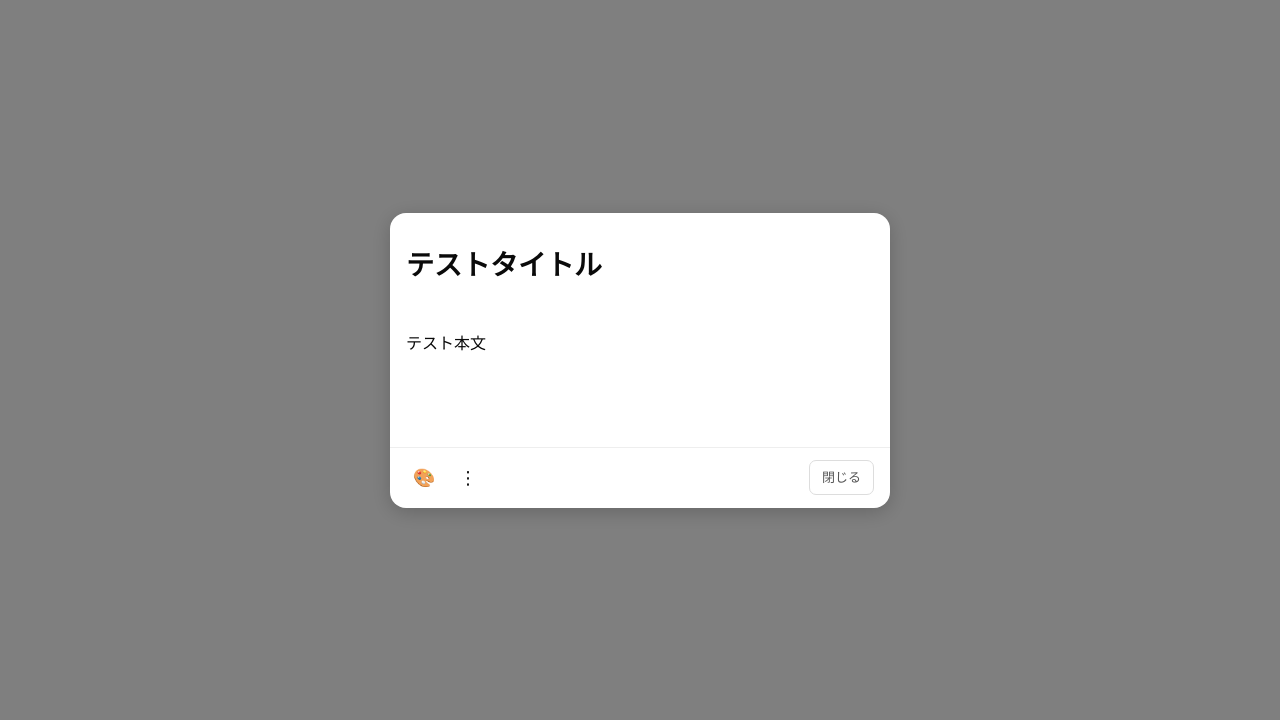
NoteDetailModal › ⋮ ボタンを押すと、メニューパネルが表示される
Step 1. Click the button "⋮" → (468, 478), box 450,460 -> 486,496
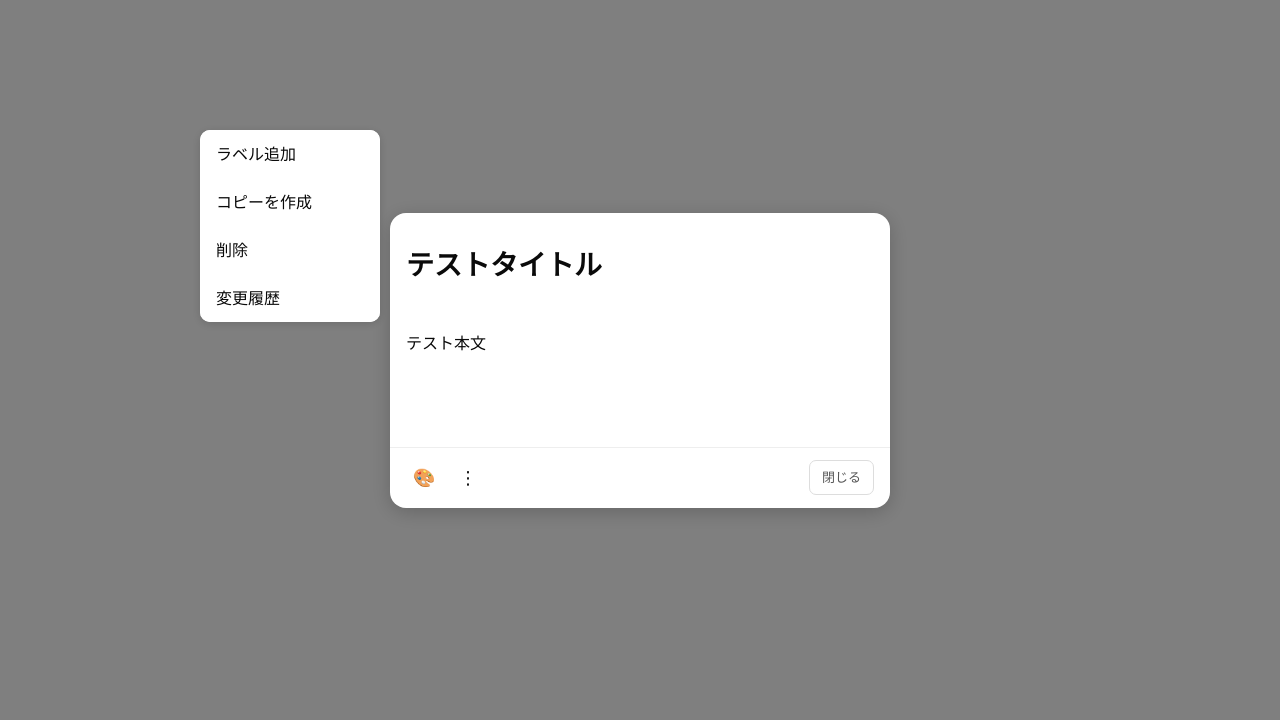
Expected: the button "削除" is shown, 200,226 -> 380,274
Expected: the button "コピーを作成" is shown, 200,178 -> 380,226
